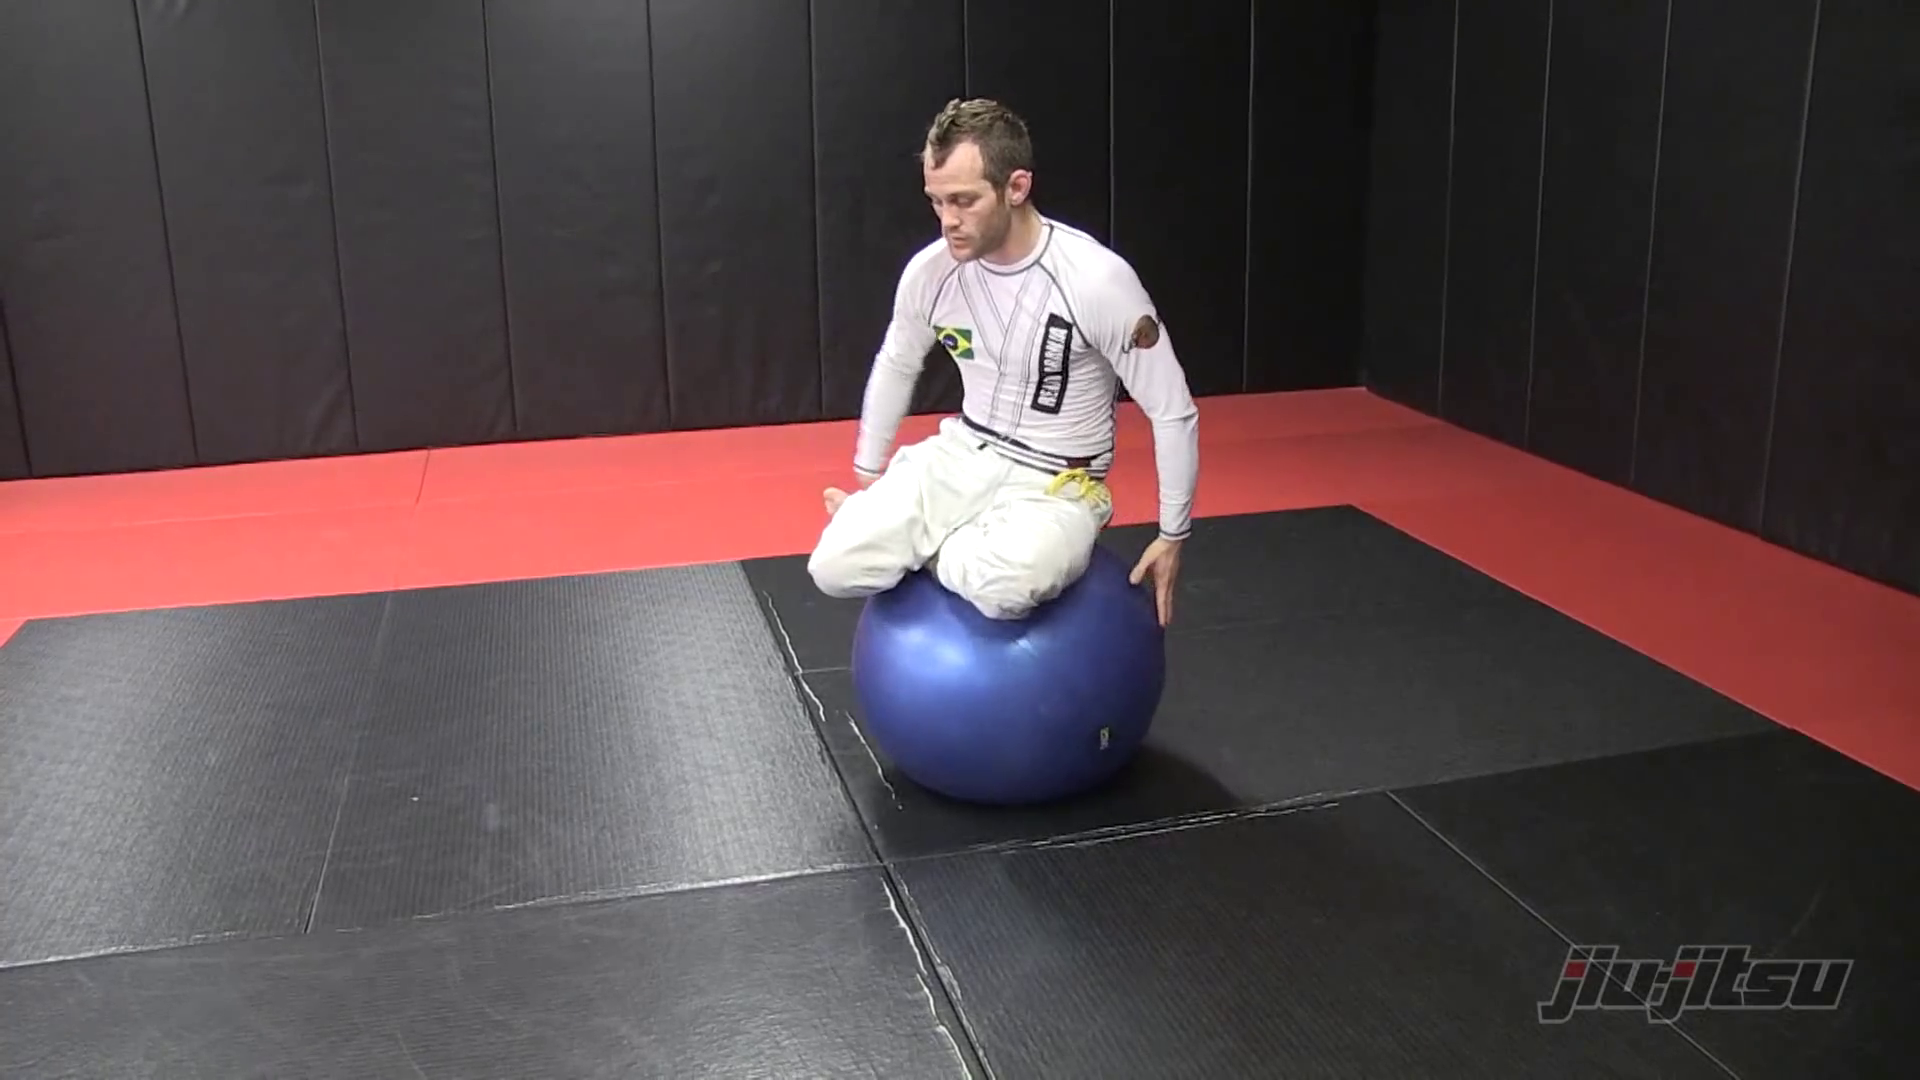yogaball: (824, 541, 1195, 816)
